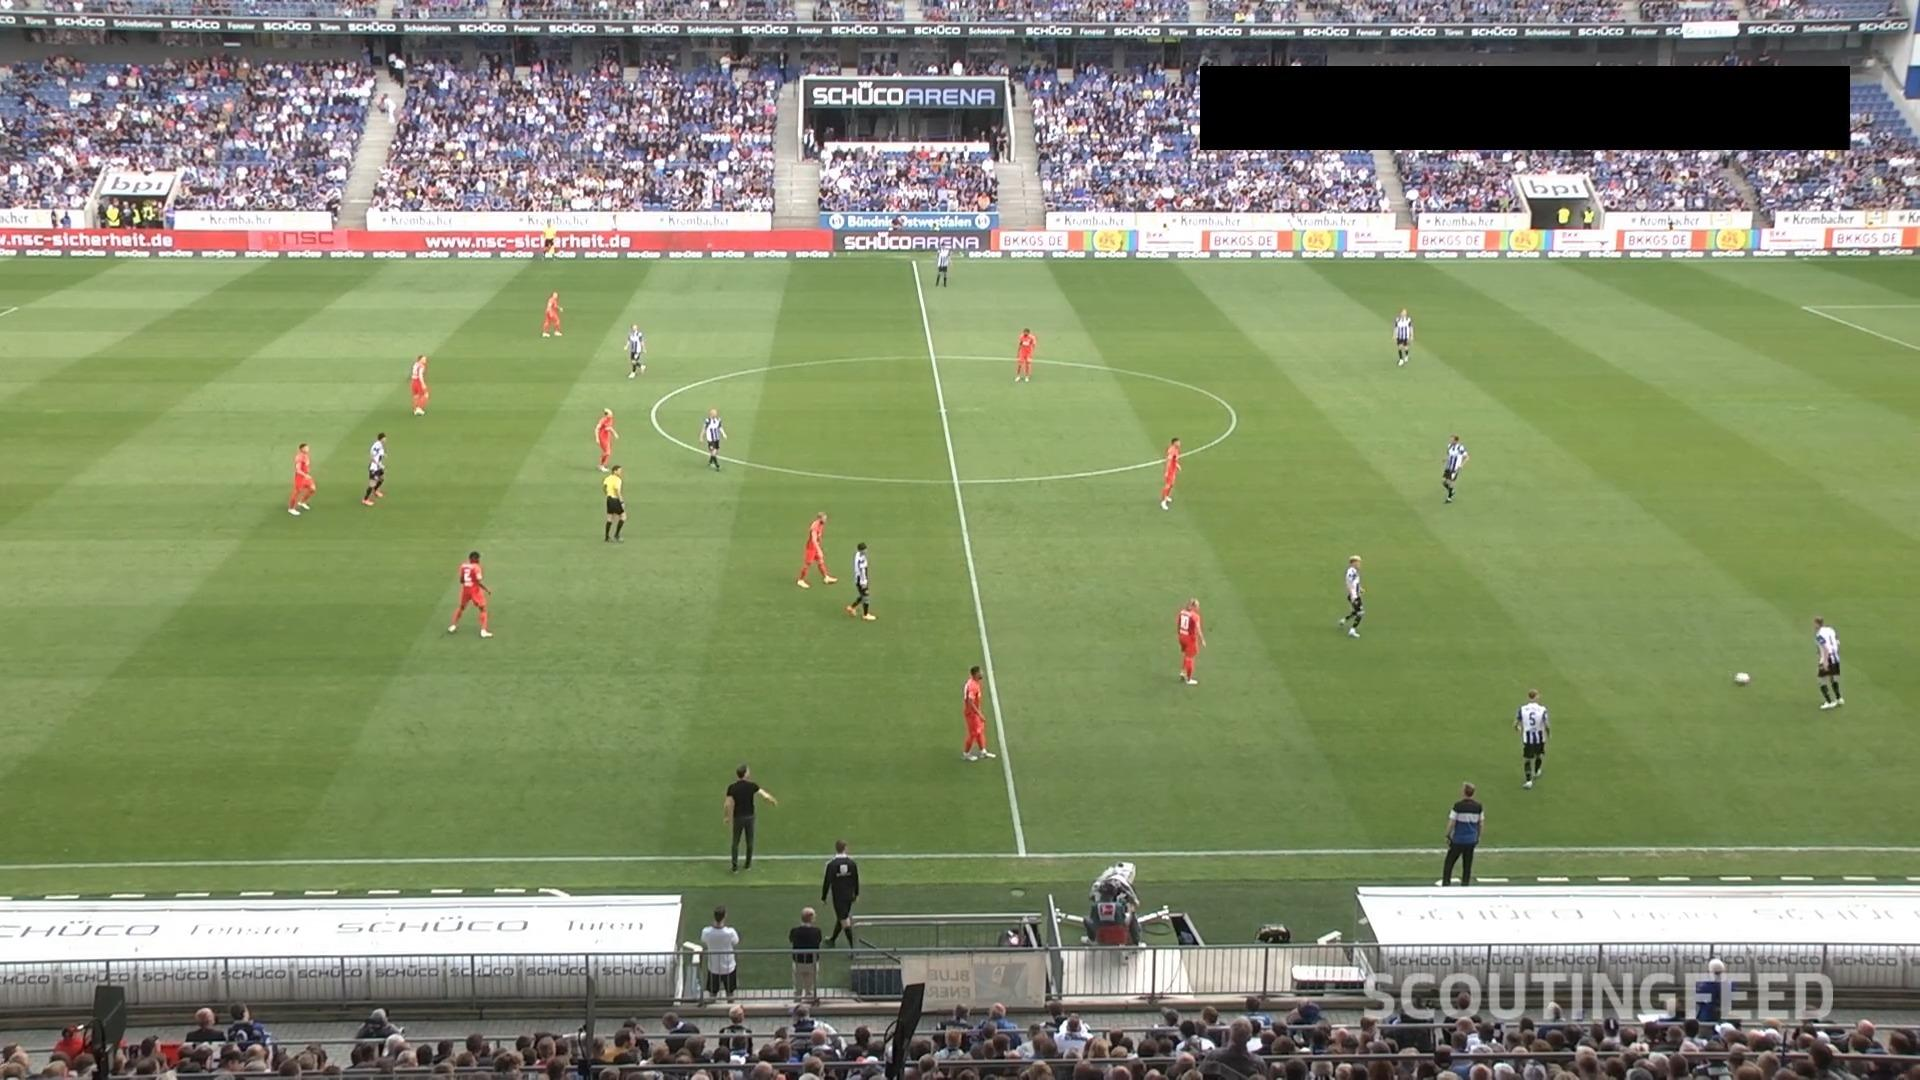ball: (1731, 671, 1751, 687)
